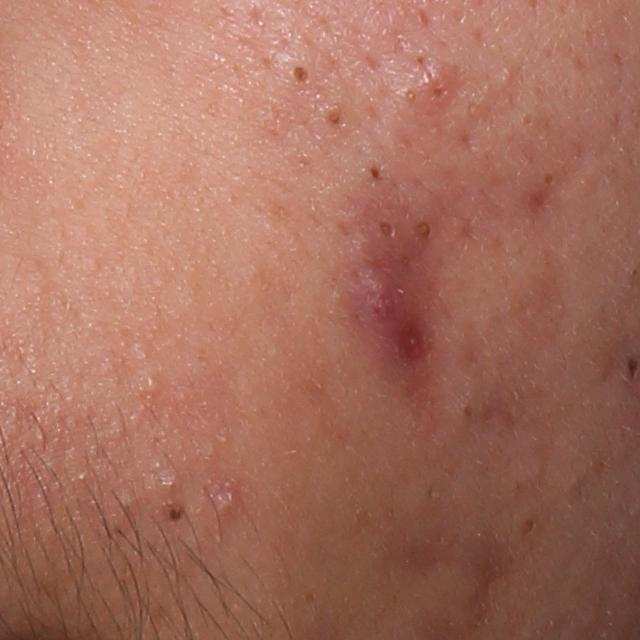comedo: (283, 52, 325, 92), (360, 155, 391, 186), (321, 104, 349, 135), (211, 485, 238, 513), (414, 211, 433, 244), (156, 473, 187, 493), (141, 369, 165, 394), (375, 216, 397, 242), (498, 64, 515, 85), (402, 84, 417, 106)
